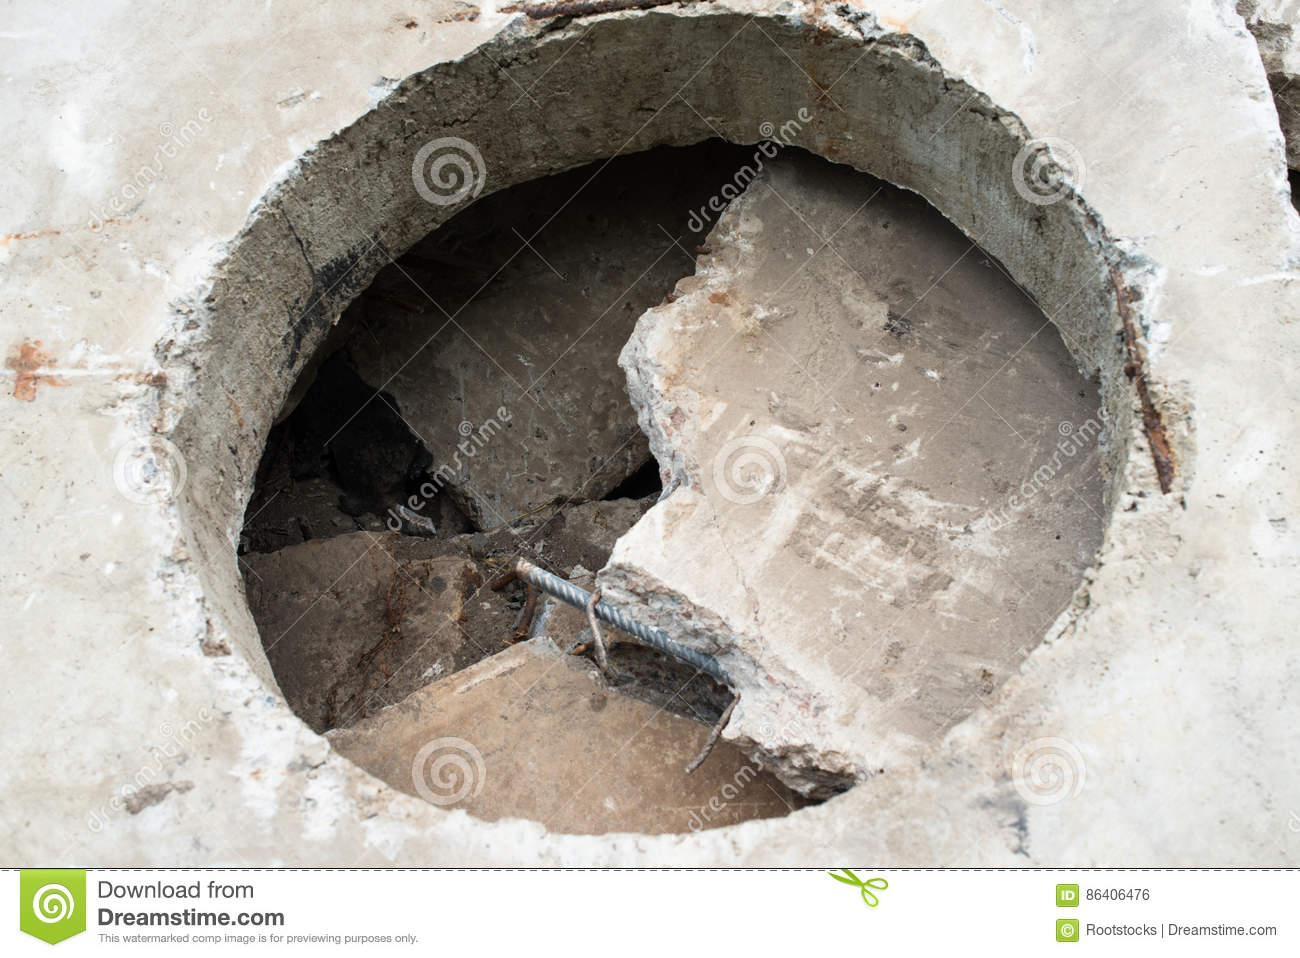Manhole-Open: (153, 12, 1165, 845)
